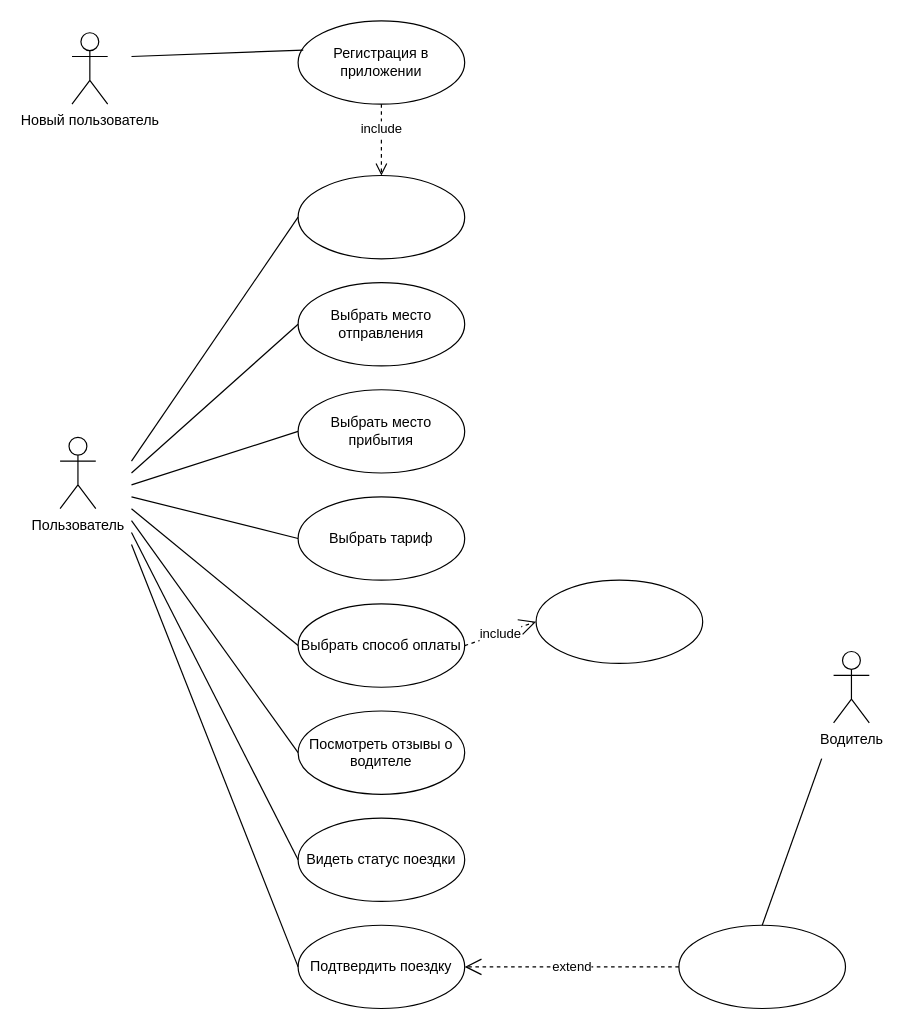
This 903x1029 diagram has some shape labels left out. The centre of each missing label's shape, as x and y in pixels:
Ввести данные карты: point 619,621
Подтвердить заказ: point 761,966
Редактирование профиля: point 381,216
